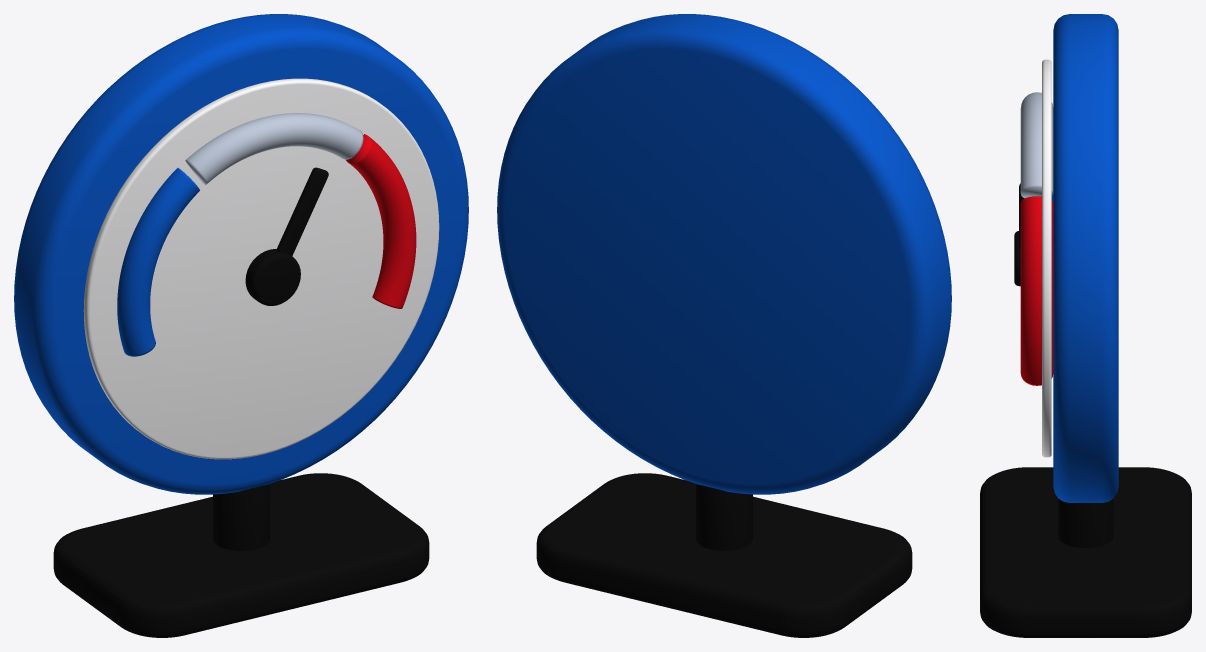
File: barometre.glb
3 renders of one model, left to right at view 1: azimuth 30°, elevation 25°; view 2: azimuth 150°, elevation 25°; view 3: azimuth 270°, elevation 25°, orthographic. The views are drawn at different scales.
Visible parts, largest first — view 1: cyl.002, cyl.001, ext, tor.002, tor.001, tor, cyl, cyl.003, box; view 2: cyl.001, ext, cyl; view 3: cyl.001, ext, tor, cyl.002, tor.001, cyl, cyl.003.
Boxes of the visible parts, x1,y1,x2,y2 form: cyl.002: (83, 78, 439, 459); cyl.001: (14, 14, 468, 494); ext: (53, 473, 429, 637); tor.002: (117, 168, 199, 356); tor.001: (185, 113, 363, 184); tor: (346, 134, 416, 308); cyl: (213, 484, 269, 550); cyl.003: (245, 249, 300, 305); box: (276, 167, 328, 255); cyl.001: (497, 14, 951, 494); ext: (536, 473, 912, 637); cyl: (696, 484, 752, 550); cyl.001: (1053, 14, 1118, 502); ext: (980, 467, 1191, 637); tor: (1020, 196, 1053, 385); cyl.002: (1042, 59, 1051, 457); tor.001: (1020, 92, 1053, 198); cyl: (1058, 498, 1113, 547); cyl.003: (1014, 231, 1020, 286).
Size of the model in its own units: 3 by 3.6 by 1.3.
